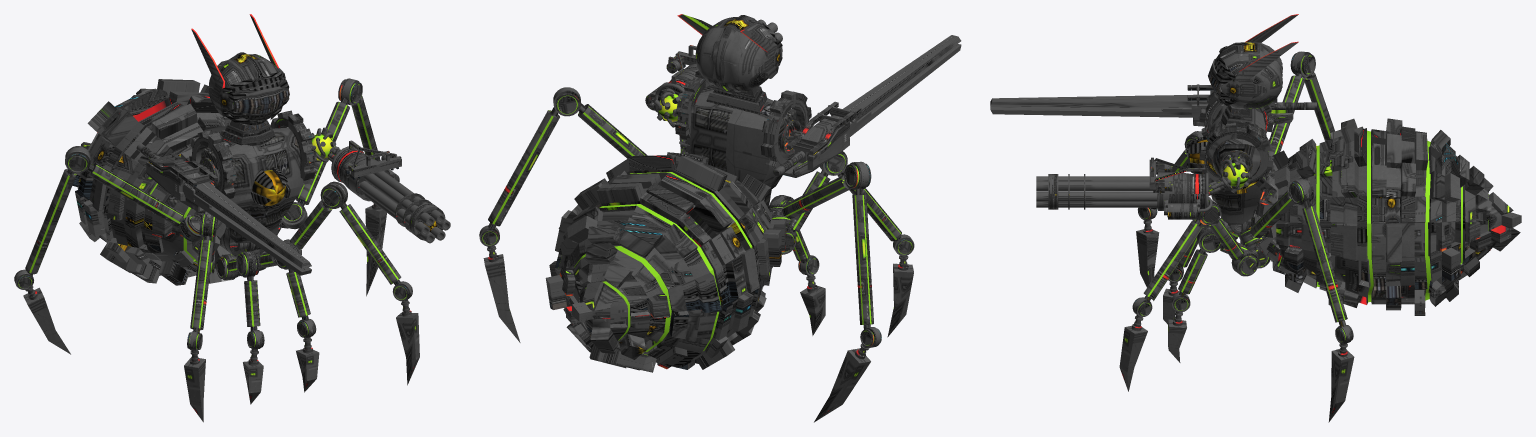
Rendered from Boss2.fbx.
3 views of the same model, side by side, from view 1: azimuth 30°, elevation 25°; view 2: azimuth 150°, elevation 25°; view 3: azimuth 270°, elevation 25° (orthographic). The views are drawn at different scales.
Visible parts, largest first — view 1: ass, railgun1, polySurface25, polySurface26, regs39, regs41, polySurface32, polySurface30, body12, body13, regs33, regs10 (+30 smaller); view 2: ass, polySurface32, railgun1, polySurface25, polySurface26, regs41, regs2, body12, regs44, regs1, bodyparts6, body13 (+11 smaller); view 3: ass, railgun1, polySurface26, polySurface32, body13, polySurface31, regs2, polySurface2, regs10, polySurface3, bodyparts6, polySurface8 (+15 smaller).
Boxes of the visible parts, left/top/right/bottom form: ass: left=72, top=79, right=288, bottom=285; railgun1: left=162, top=159, right=311, bottom=275; polySurface25: left=201, top=140, right=267, bottom=243; polySurface26: left=260, top=127, right=303, bottom=234; regs39: left=87, top=162, right=185, bottom=226; regs41: left=25, top=168, right=76, bottom=275; polySurface32: left=208, top=52, right=280, bottom=125; polySurface30: left=191, top=28, right=252, bottom=124; body12: left=189, top=130, right=236, bottom=198; body13: left=270, top=110, right=316, bottom=184; regs33: left=190, top=236, right=213, bottom=333; regs10: left=339, top=202, right=401, bottom=285; ass: left=545, top=152, right=785, bottom=372; polySurface32: left=695, top=15, right=774, bottom=94; railgun1: left=795, top=35, right=961, bottom=160; polySurface25: left=725, top=98, right=796, bottom=206; polySurface26: left=686, top=87, right=734, bottom=171; regs41: left=852, top=188, right=873, bottom=329; regs2: left=488, top=107, right=559, bottom=229; body12: left=760, top=90, right=811, bottom=169; regs44: left=814, top=348, right=870, bottom=422; regs1: left=578, top=103, right=647, bottom=158; bodyparts6: left=483, top=254, right=520, bottom=342; body13: left=675, top=70, right=716, bottom=147; ass: left=1272, top=118, right=1521, bottom=315; railgun1: left=990, top=94, right=1216, bottom=117; polySurface26: left=1208, top=122, right=1268, bottom=224; polySurface32: left=1219, top=42, right=1282, bottom=108; body13: left=1199, top=122, right=1273, bottom=193; polySurface31: left=1216, top=41, right=1298, bottom=105; regs2: left=1302, top=199, right=1347, bottom=328; polySurface2: left=1158, top=172, right=1205, bottom=210; regs10: left=1143, top=219, right=1202, bottom=300; polySurface3: left=1036, top=192, right=1157, bottom=201; bodyparts6: left=1328, top=349, right=1354, bottom=422; polySurface8: left=1036, top=181, right=1153, bottom=190.
Bounding box in the file's own units: 12953 × 11042 × 16382.
